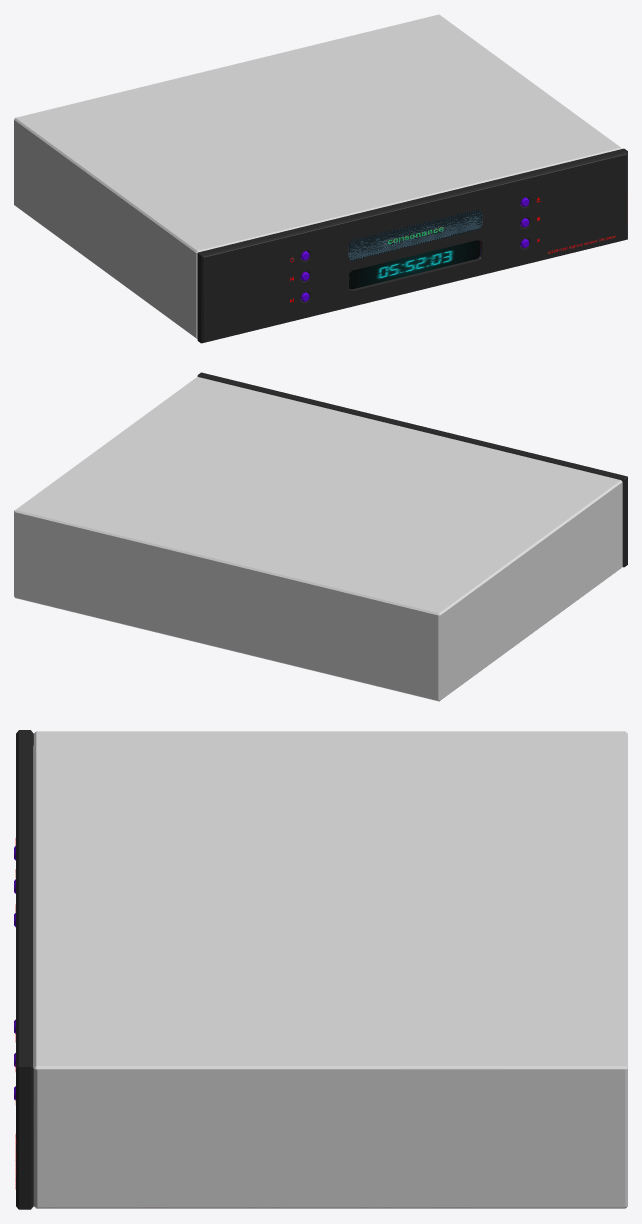
Rendered from device.fbx.
3 renders of one model, top to bottom at view 1: azimuth 30°, elevation 25°; view 2: azimuth 150°, elevation 25°; view 3: azimuth 270°, elevation 25°, orthographic. The views are drawn at different scales.
Visible parts, largest first — view 1: 1, 2, 3; view 2: 1; view 3: 1.
Part boxes in pixels (x1=…): 1: x1=14, y1=14, x2=627, y2=343; 2: x1=348, y1=209, x2=482, y2=260; 3: x1=348, y1=240, x2=480, y2=289; 1: x1=14, y1=372, x2=627, y2=701; 1: x1=14, y1=730, x2=627, y2=1209.
Bounding box in the file's own units: 43 × 9.23 × 33.11.
Materials: 3 (3 with a texture image).
